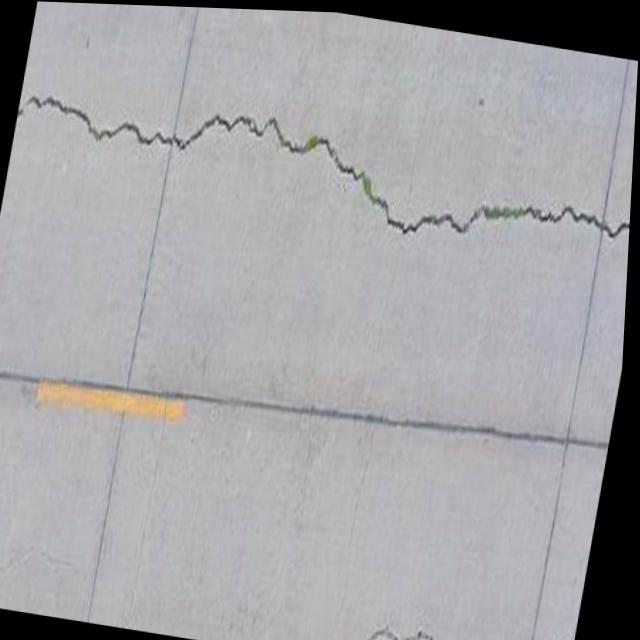Crack: (3, 34, 639, 280)
